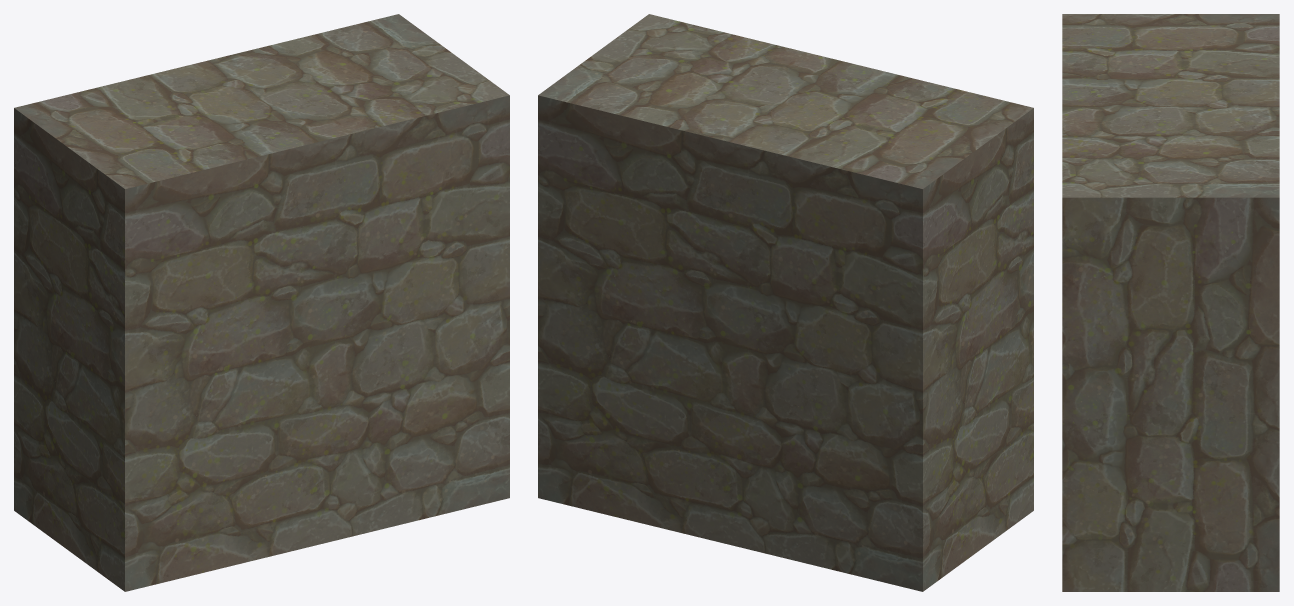
File: MSH_fwOF_Ruins_Wall_Half_Low_01.fbx
The picture shows the model from 3 angles, left to right: view 1: azimuth 30°, elevation 25°; view 2: azimuth 150°, elevation 25°; view 3: azimuth 270°, elevation 25°; orthographic projection. The views are drawn at different scales.
Visible parts, largest first — view 1: MSH_fwOF_Ruins_Wall_Half_Low_01; view 2: MSH_fwOF_Ruins_Wall_Half_Low_01; view 3: MSH_fwOF_Ruins_Wall_Half_Low_01.
Part boxes in pixels (x1,y1,x2,y2): MSH_fwOF_Ruins_Wall_Half_Low_01: [14, 14, 509, 591]; MSH_fwOF_Ruins_Wall_Half_Low_01: [538, 14, 1033, 591]; MSH_fwOF_Ruins_Wall_Half_Low_01: [1062, 14, 1279, 591].
Size of the model in its own units: 2 by 2 by 1.
